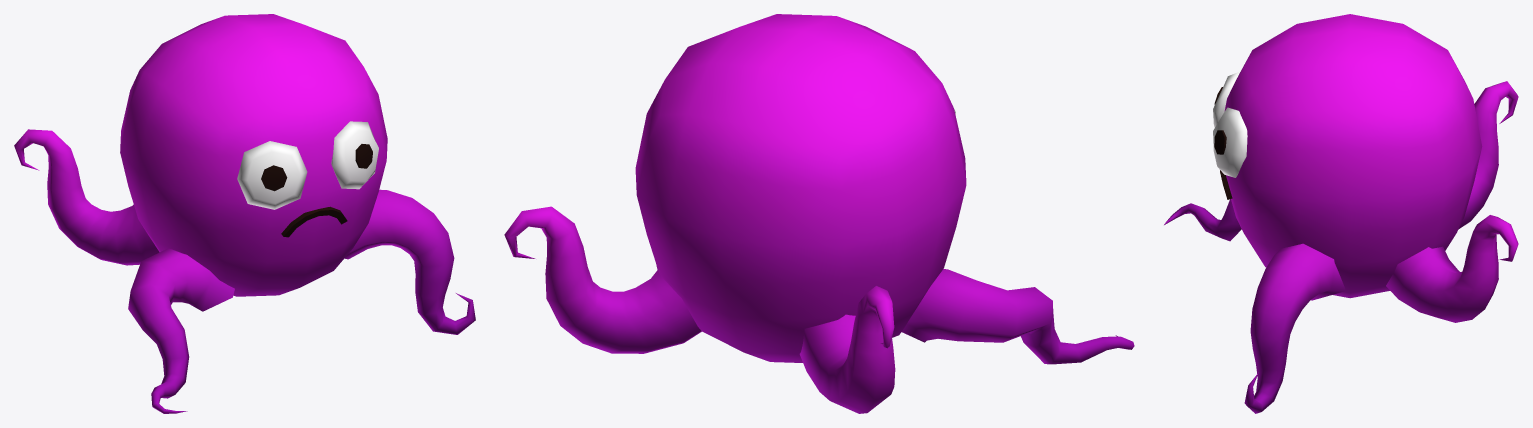
Rendered from Hat_Ocean.fbx.
3 renders of one model, left to right at view 1: azimuth 30°, elevation 25°; view 2: azimuth 150°, elevation 25°; view 3: azimuth 270°, elevation 25°, orthographic. The views are drawn at different scales.
Visible parts, largest first — view 1: Hat_Ocean; view 2: Hat_Ocean; view 3: Hat_Ocean.
Boxes of the visible parts, x1,y1,x2,y2 form: Hat_Ocean: (14,14,475,413); Hat_Ocean: (504,14,1134,413); Hat_Ocean: (1164,14,1518,413).
Size of the model in its own units: 135 by 113 by 117.
